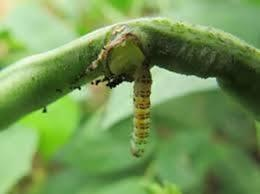fallarmy_worm: (128, 68, 155, 160)
